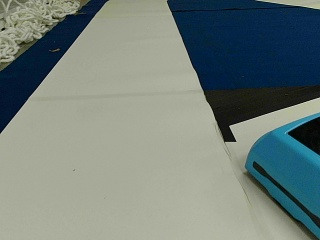car: (243, 107, 319, 236)
